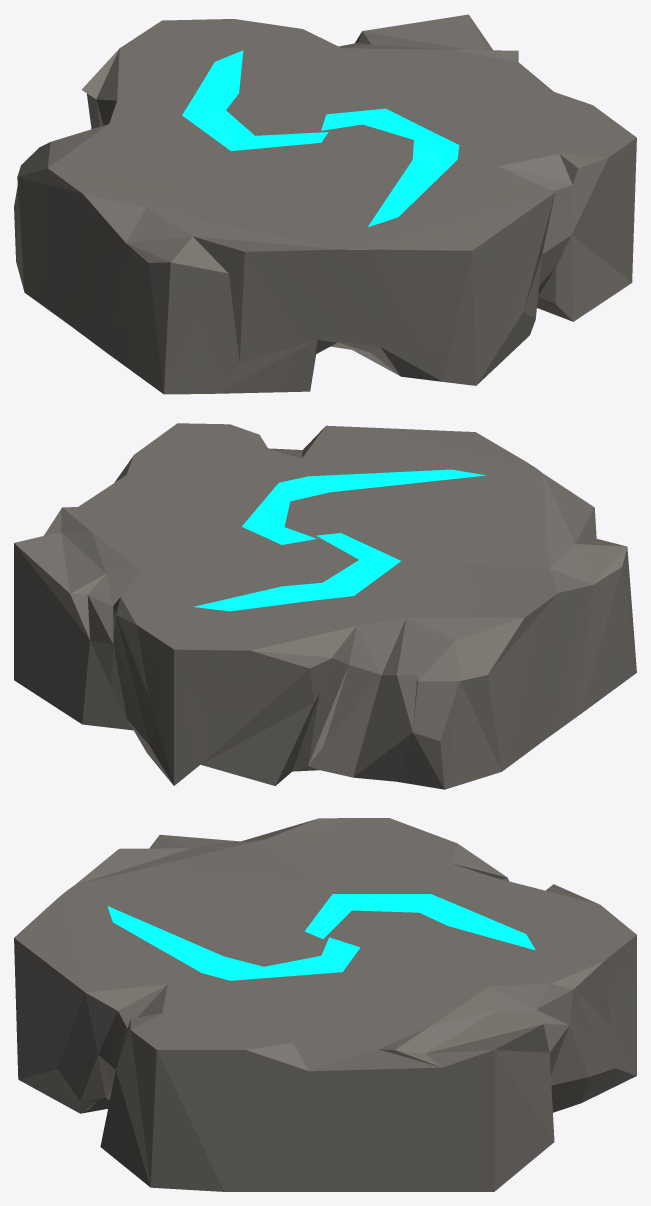
The picture shows the model from 3 angles, top to bottom: view 1: azimuth 30°, elevation 25°; view 2: azimuth 150°, elevation 25°; view 3: azimuth 270°, elevation 25°; orthographic projection. The views are drawn at different scales.
Visible parts, largest first — view 1: Obj3d66-1649282-90-540; view 2: Obj3d66-1649282-90-540; view 3: Obj3d66-1649282-90-540.
Boxes of the visible parts, <box> form: Obj3d66-1649282-90-540: <box>14,14,636,394</box>; Obj3d66-1649282-90-540: <box>14,423,636,789</box>; Obj3d66-1649282-90-540: <box>14,818,636,1191</box>.
Bounding box in the file's own units: 959 × 275 × 1089.
Materials: 1 (1 with a texture image).
